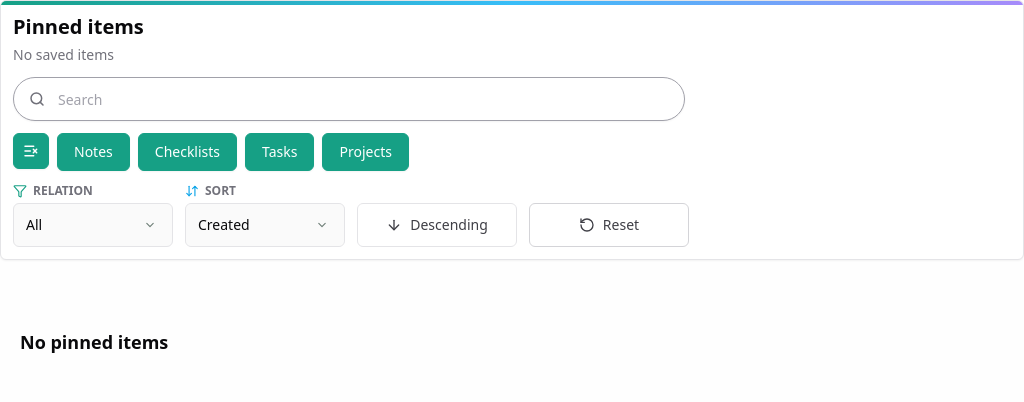
list preference persistence › reports failed saves
The width and height of the screenshot is (1024, 402).
Select "title" in the dropdown labelled "Sort" at (265, 225), box [185,203,345,247]
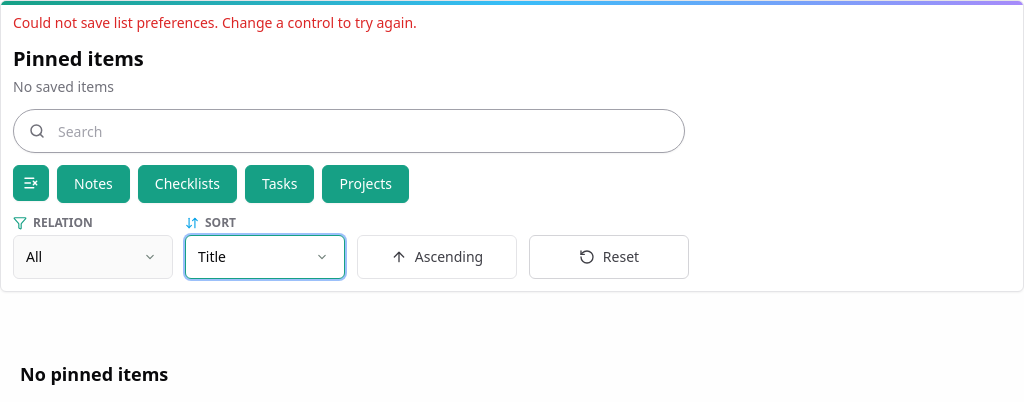
Now the message shows "Could not save list preferences", box [13,13,417,32]
